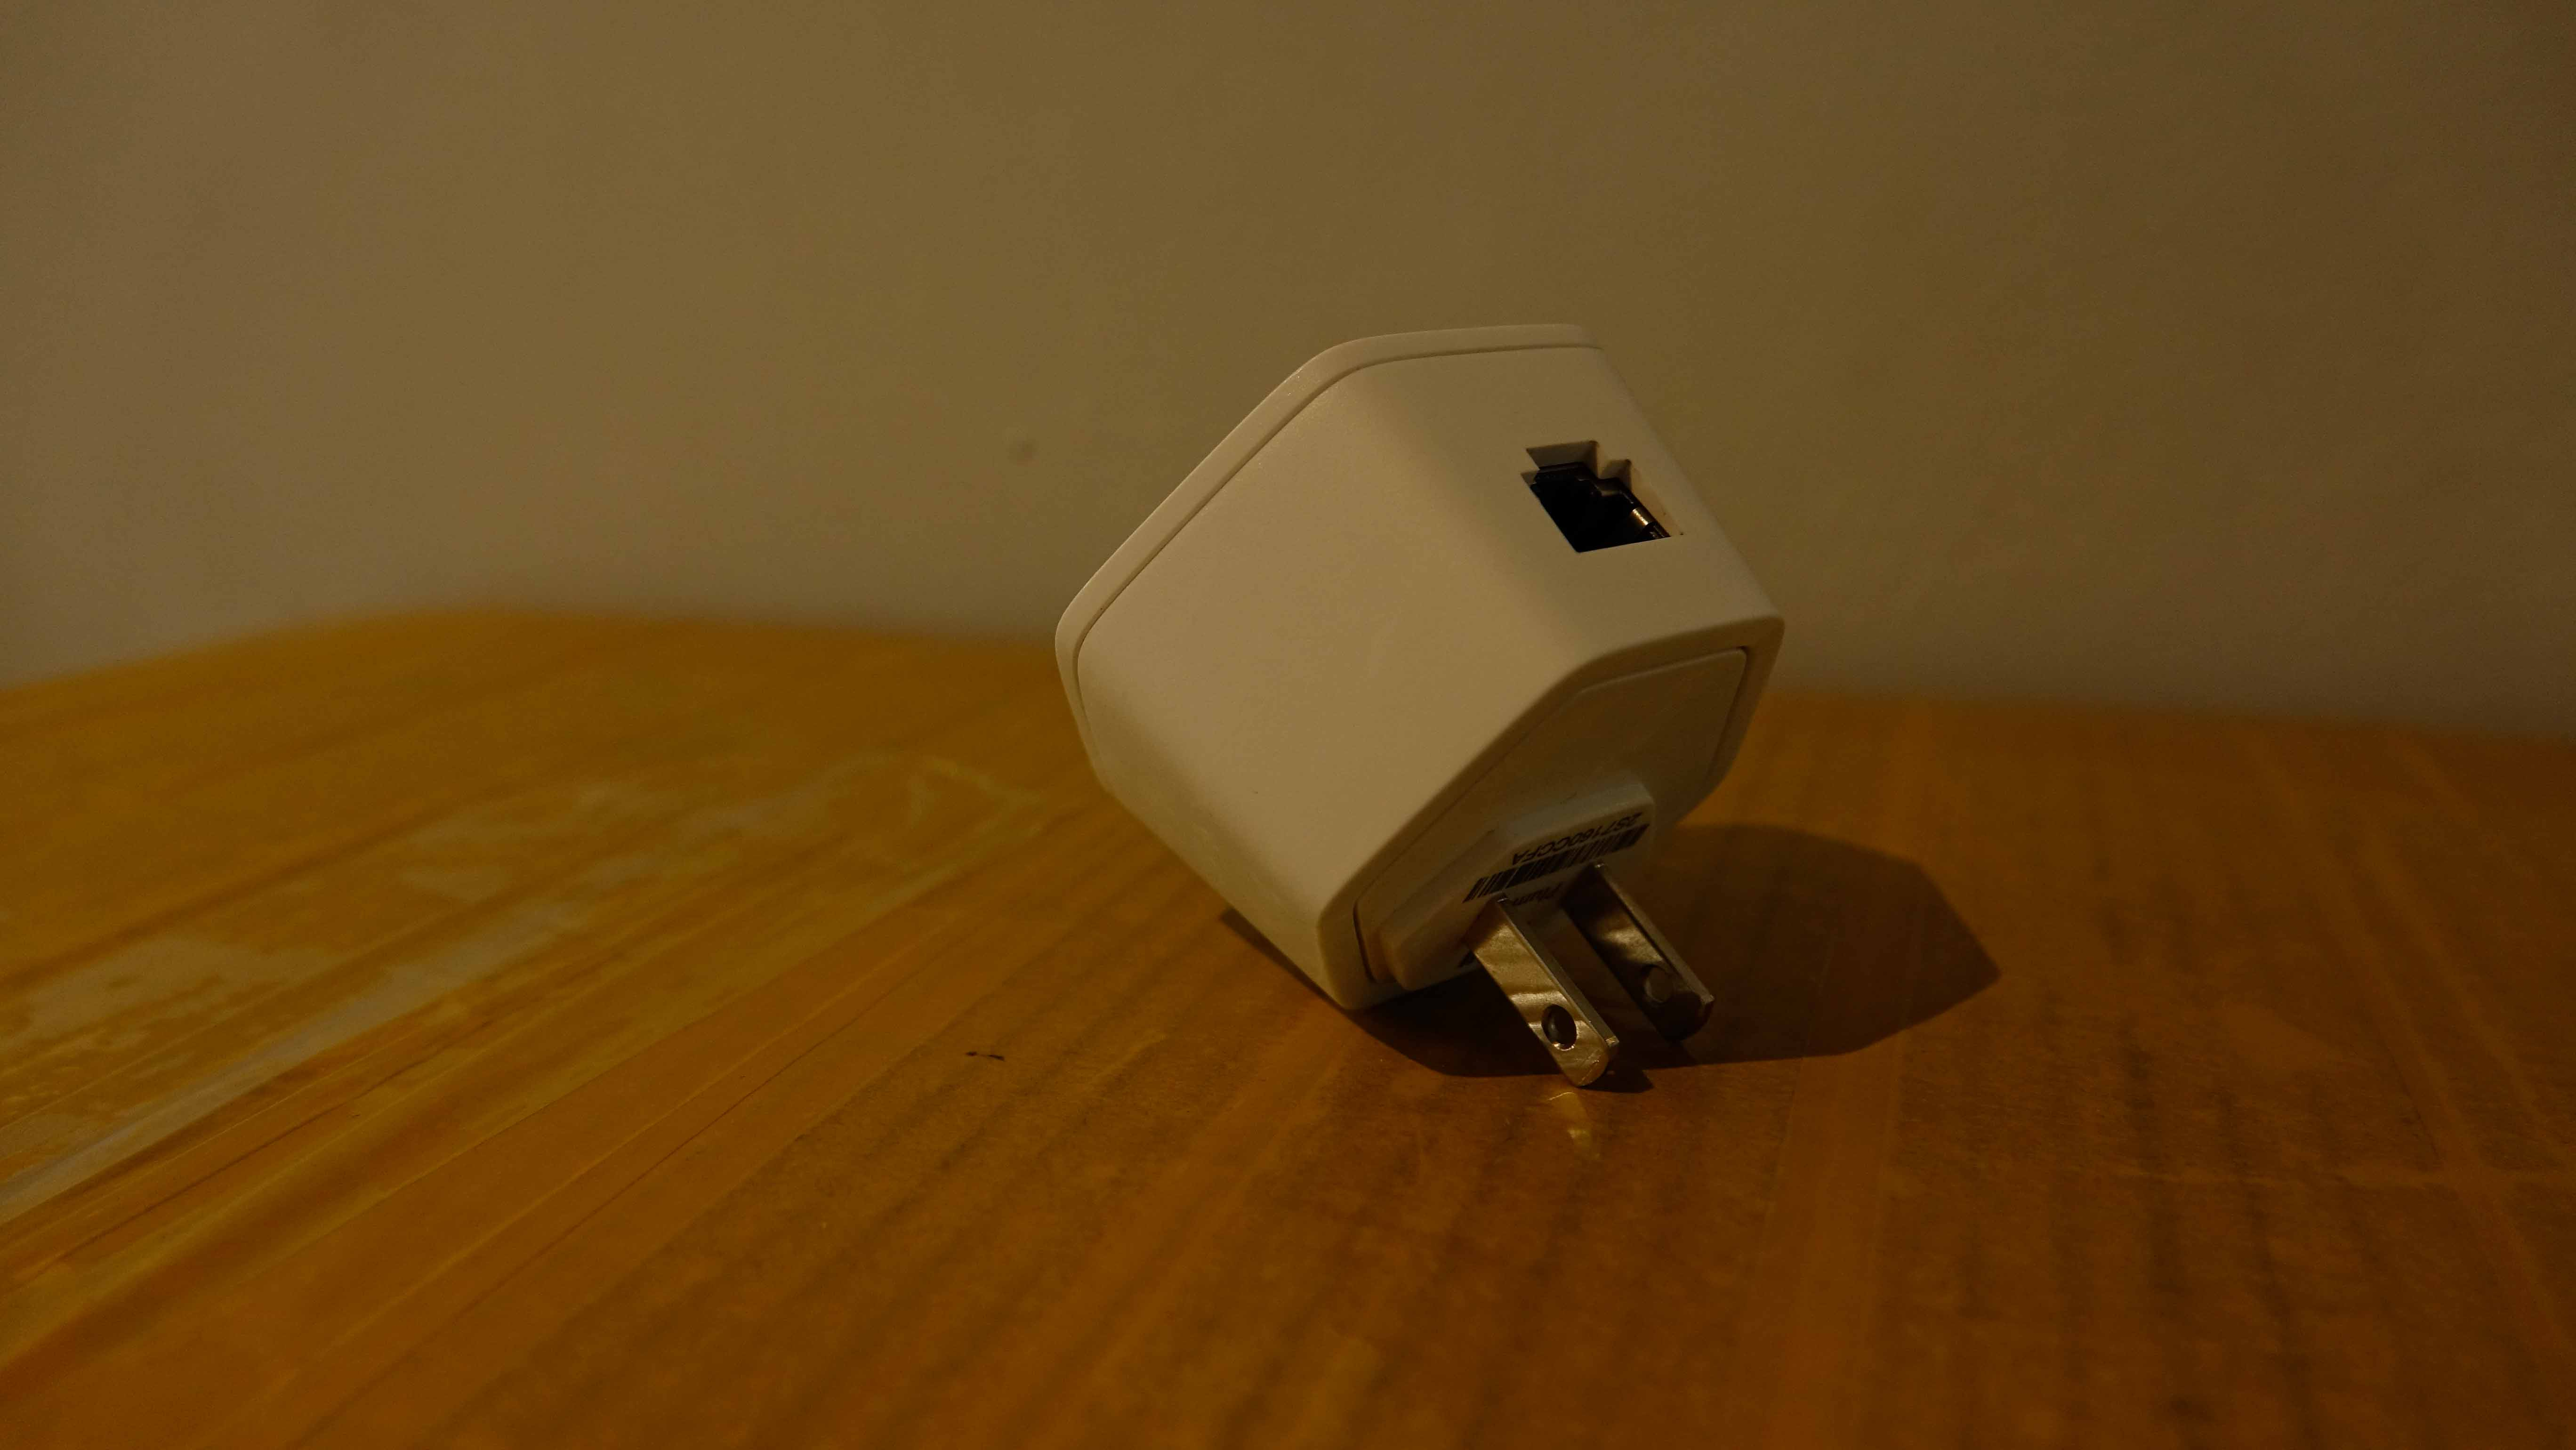pod: (1040, 299, 1810, 1118)
